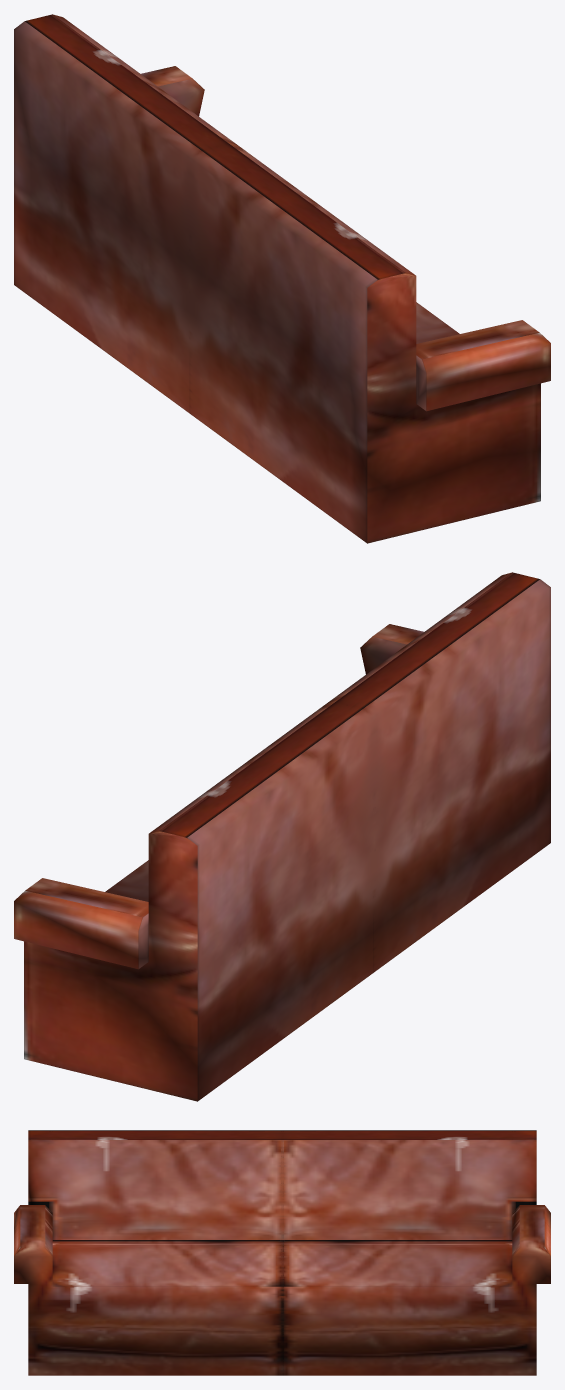
Rendered from Couch2.glb.
3 renders of one model, top to bottom at view 1: azimuth 30°, elevation 25°; view 2: azimuth 150°, elevation 25°; view 3: azimuth 270°, elevation 25°, orthographic. The views are drawn at different scales.
Visible parts, largest first — view 1: Cube; view 2: Cube; view 3: Cube.
Boxes of the visible parts, <box> form: Cube: <box>14,14,550,543</box>; Cube: <box>14,572,550,1101</box>; Cube: <box>14,1130,550,1375</box>.
Bounding box in the file's own units: 1.17 × 1.68 × 4.34.
1 material, 1 textured.
